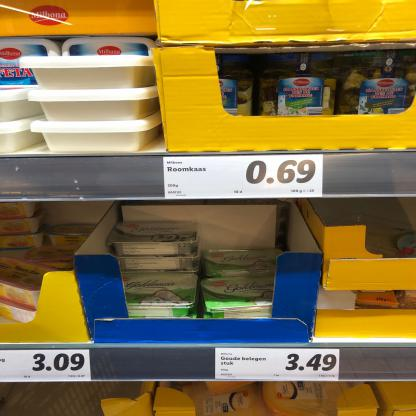prtg: (164, 156, 324, 200), (216, 348, 340, 382), (1, 350, 92, 383)
